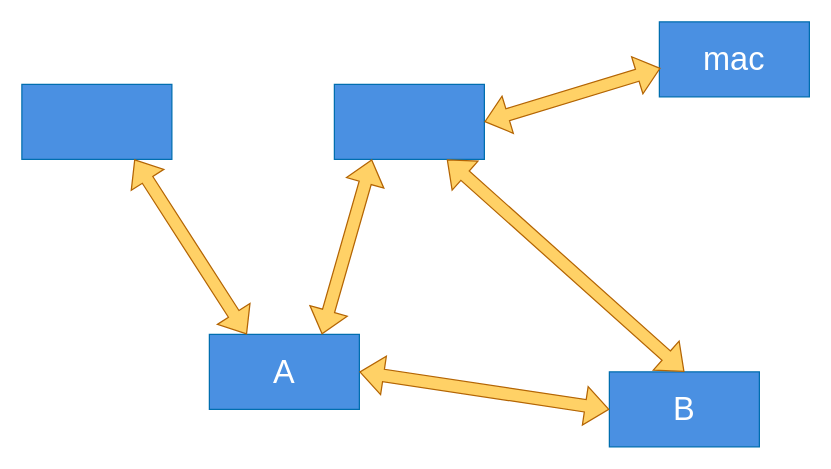
Image size: 831x469. Some labels were removed from this diagram. The centre of each missing label's shape, as x and y in pixels:
"win" belongs at point 408,121.
"wolf" belongs at point 96,121.
